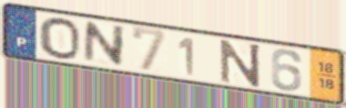1: (177, 37, 196, 77)
6: (269, 48, 304, 93)
7: (130, 25, 172, 75)
N: (218, 38, 263, 89), (81, 20, 127, 69)
O: (37, 16, 82, 61)
